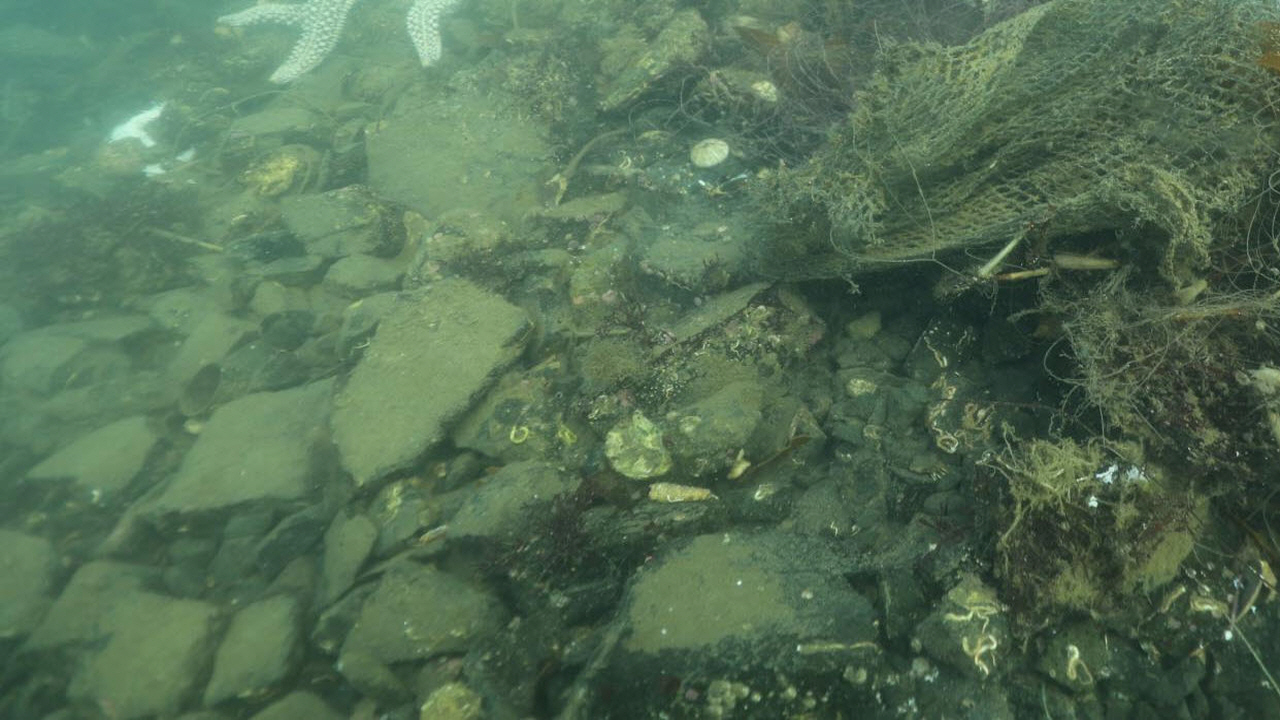fish net: (787, 0, 1280, 278)
